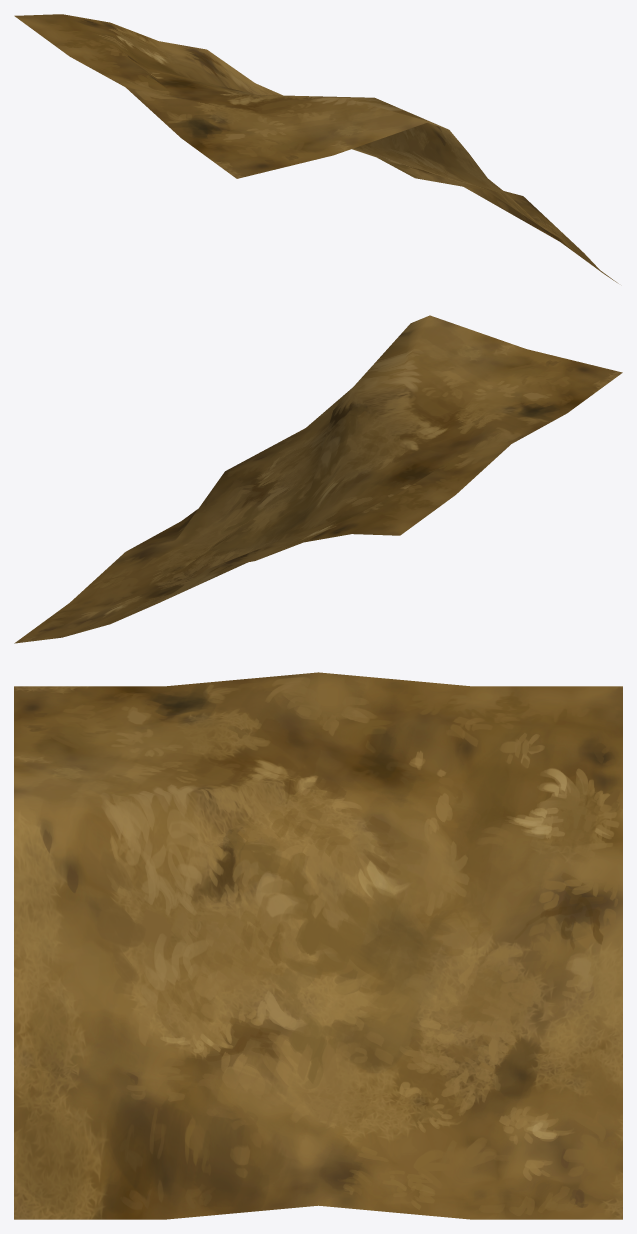
File: Slope_Level_004.fbx
3 views of the same model, one above another, from view 1: azimuth 30°, elevation 25°; view 2: azimuth 150°, elevation 25°; view 3: azimuth 270°, elevation 25° (orthographic). The views are drawn at different scales.
Visible parts, largest first — view 1: Slope_Level_004; view 2: Slope_Level_004; view 3: Slope_Level_004.
Boxes of the visible parts, x1,y1,x2,y2 form: Slope_Level_004: (14, 14, 618, 283); Slope_Level_004: (14, 315, 622, 643); Slope_Level_004: (14, 672, 622, 1219).
Bounding box in the file's own units: 10 × 5.25 × 10.
Materials: 1 (1 with a texture image).
